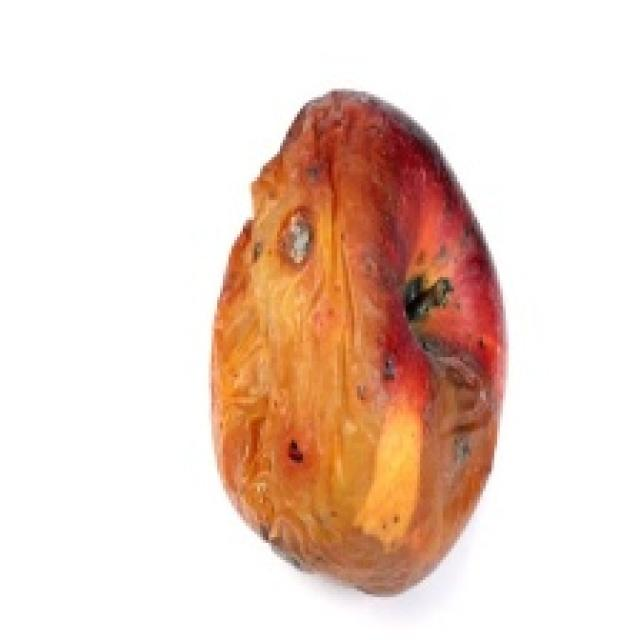rotten_apple: (212, 92, 502, 587)
